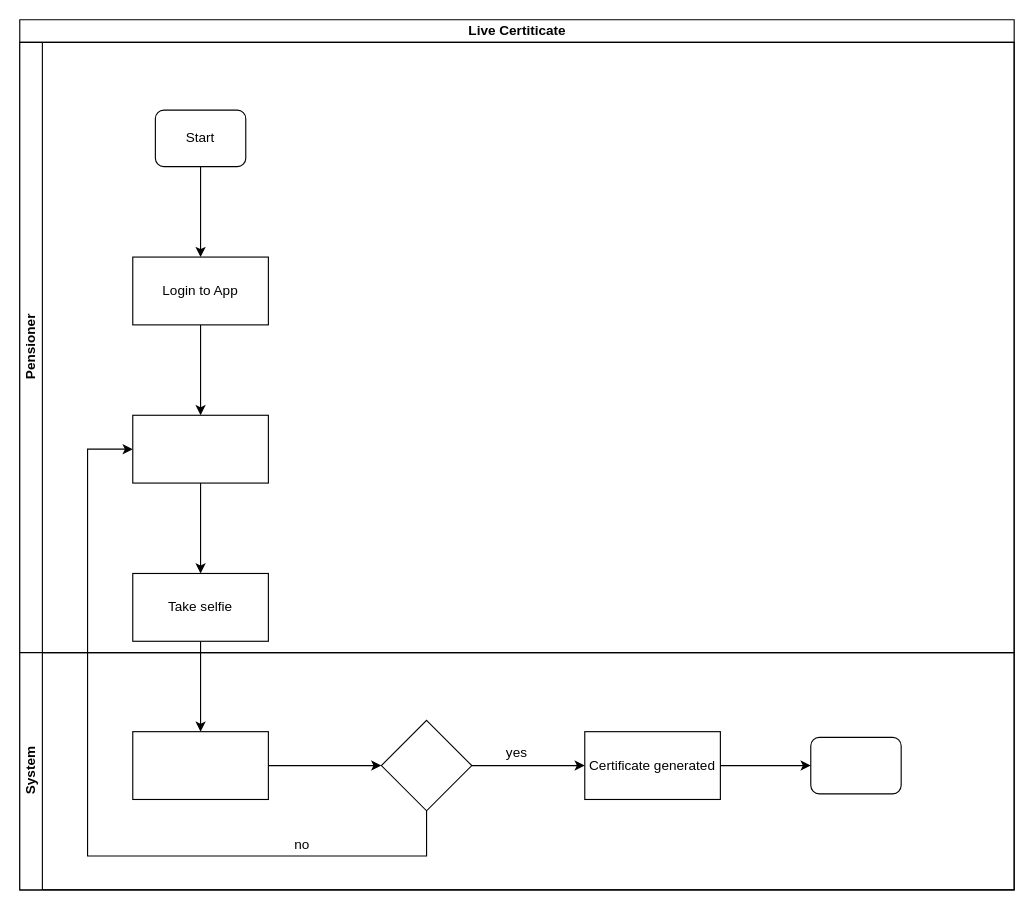
This 1034x910 diagram has some shape labels left out. Each missing label, with the centre of its shape:
Approved?: pixel 426 765
End: pixel 855 765
Key in ID Number, Pension Number: pixel 200 448
Matching done: pixel 200 765
